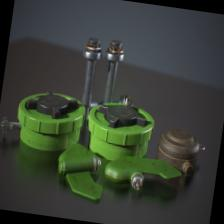PMN2: (74, 78, 214, 210), (0, 64, 89, 180)
